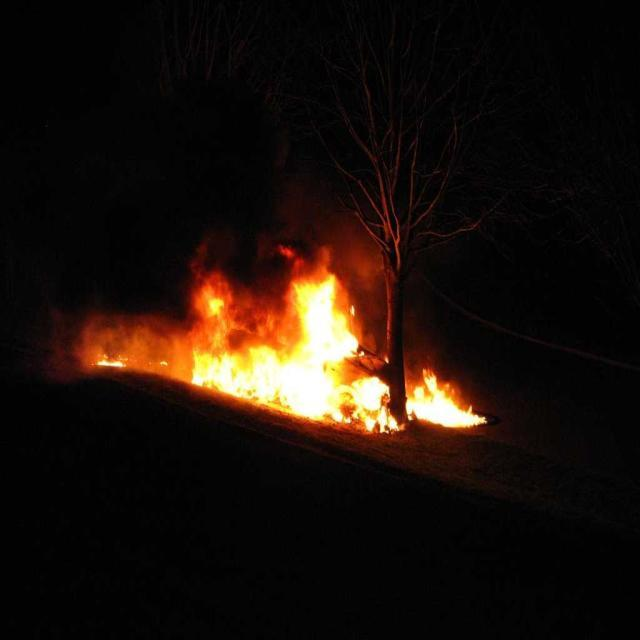Fire: (194, 262, 320, 383), (81, 308, 191, 384), (411, 370, 494, 436), (272, 392, 394, 436), (320, 271, 356, 361), (350, 374, 386, 392)
